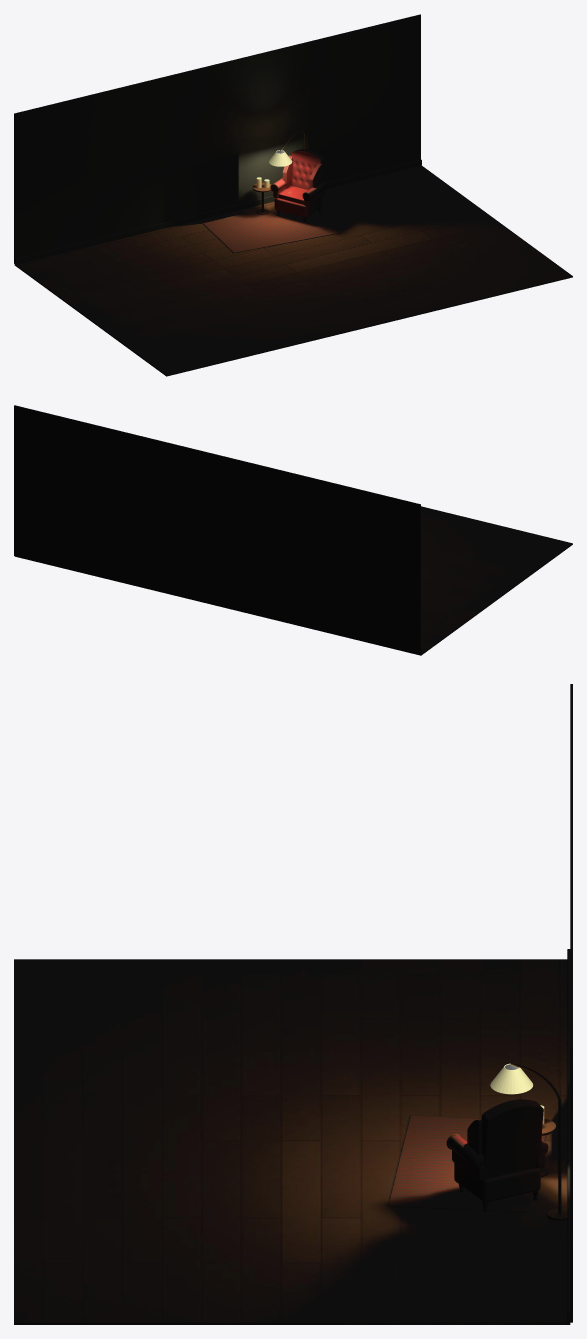
Rendered from room-scripted.glb.
3 views of the same model, one above another, from view 1: azimuth 30°, elevation 25°; view 2: azimuth 150°, elevation 25°; view 3: azimuth 270°, elevation 25° (orthographic). The views are drawn at different scales.
Parts seen in each view (by area): view 1: room_shell, room_chair, room_furniture; view 2: room_shell; view 3: room_shell, room_chair, room_furniture.
Boxes of the visible parts, box(x1,y1,x2,y2) form: room_shell: box(14, 14, 572, 376); room_chair: box(270, 149, 326, 222); room_furniture: box(252, 130, 305, 214); room_shell: box(14, 405, 572, 655); room_shell: box(14, 684, 572, 1324); room_chair: box(446, 1099, 548, 1211); room_furniture: box(490, 1063, 567, 1220).
Bounding box in the file's own units: 34 × 12.1 × 22.1.
Materials: 3 (3 with a texture image).
